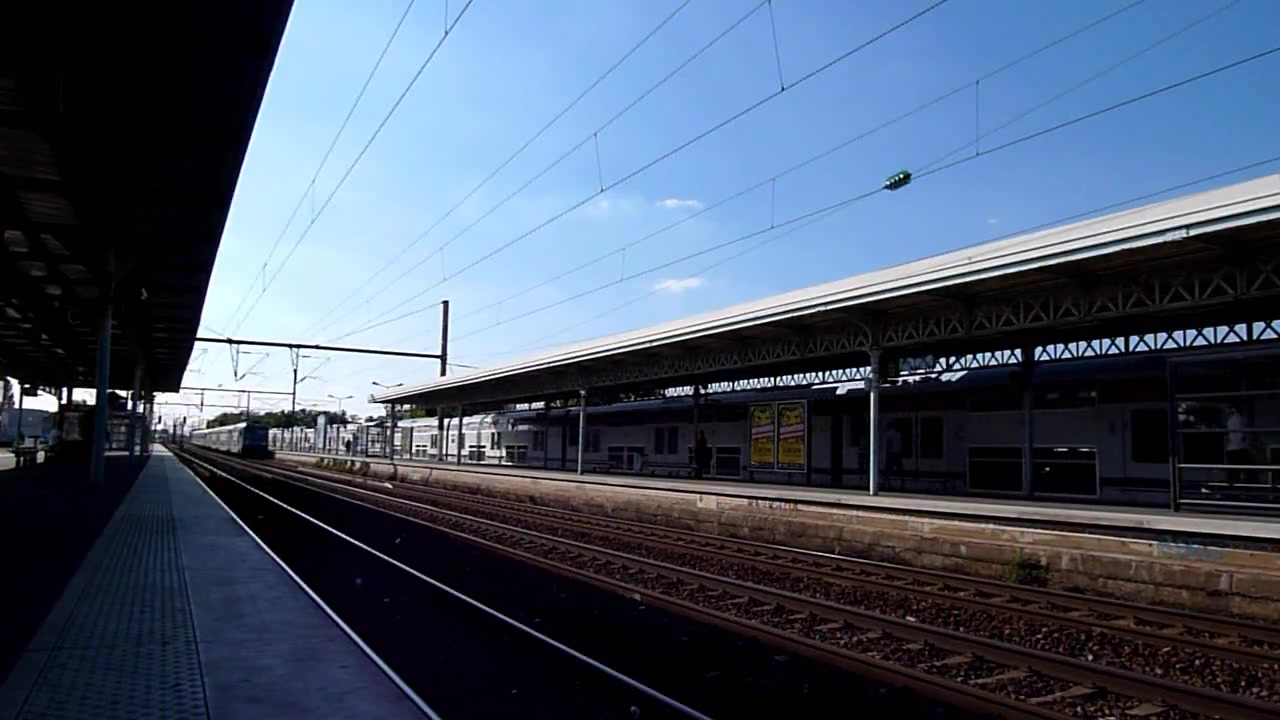train: (189, 420, 271, 459)
